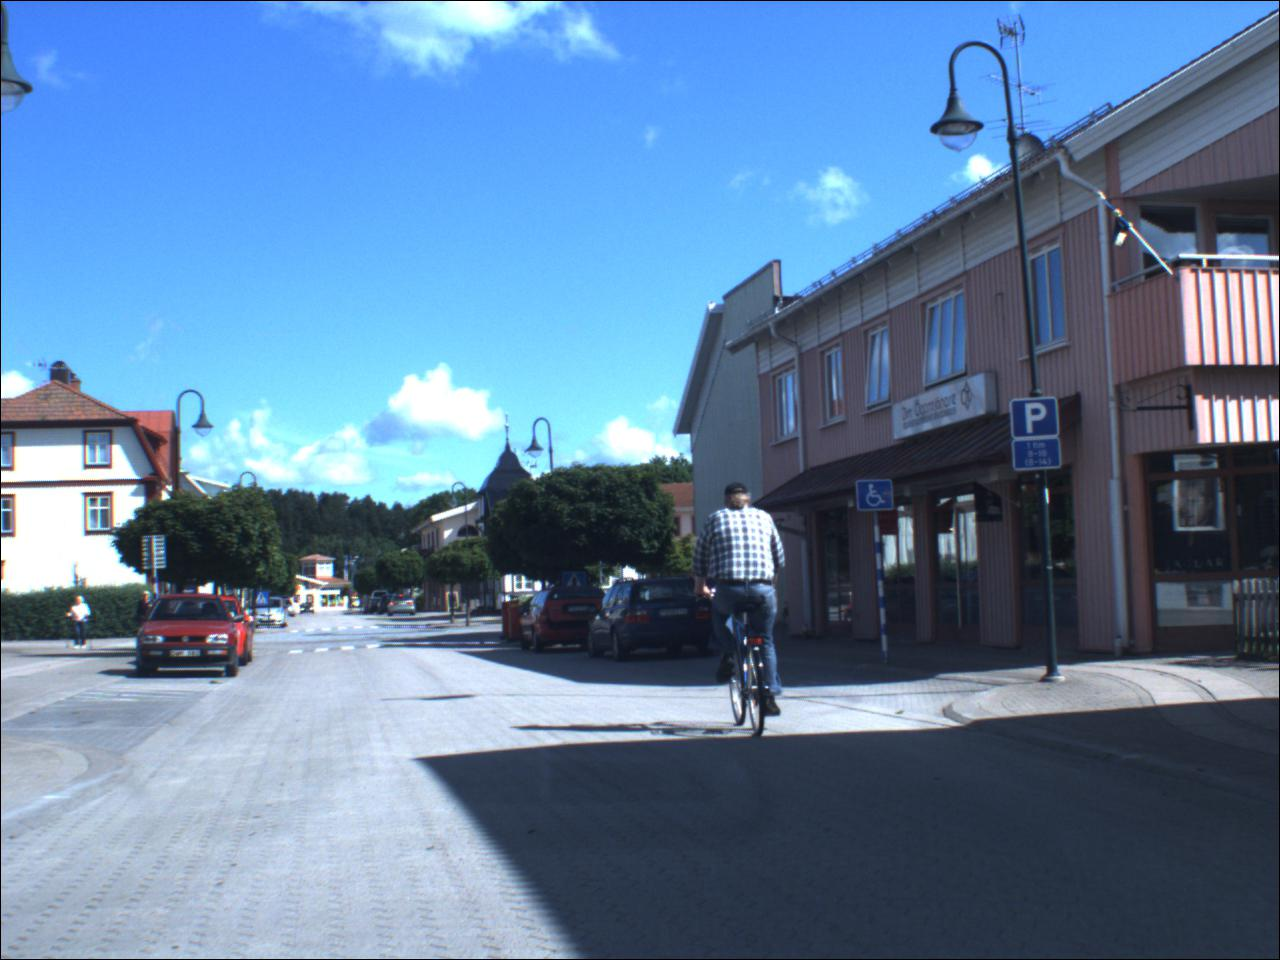PEDESTRIAN_CROSSING: (562, 573, 592, 599)
